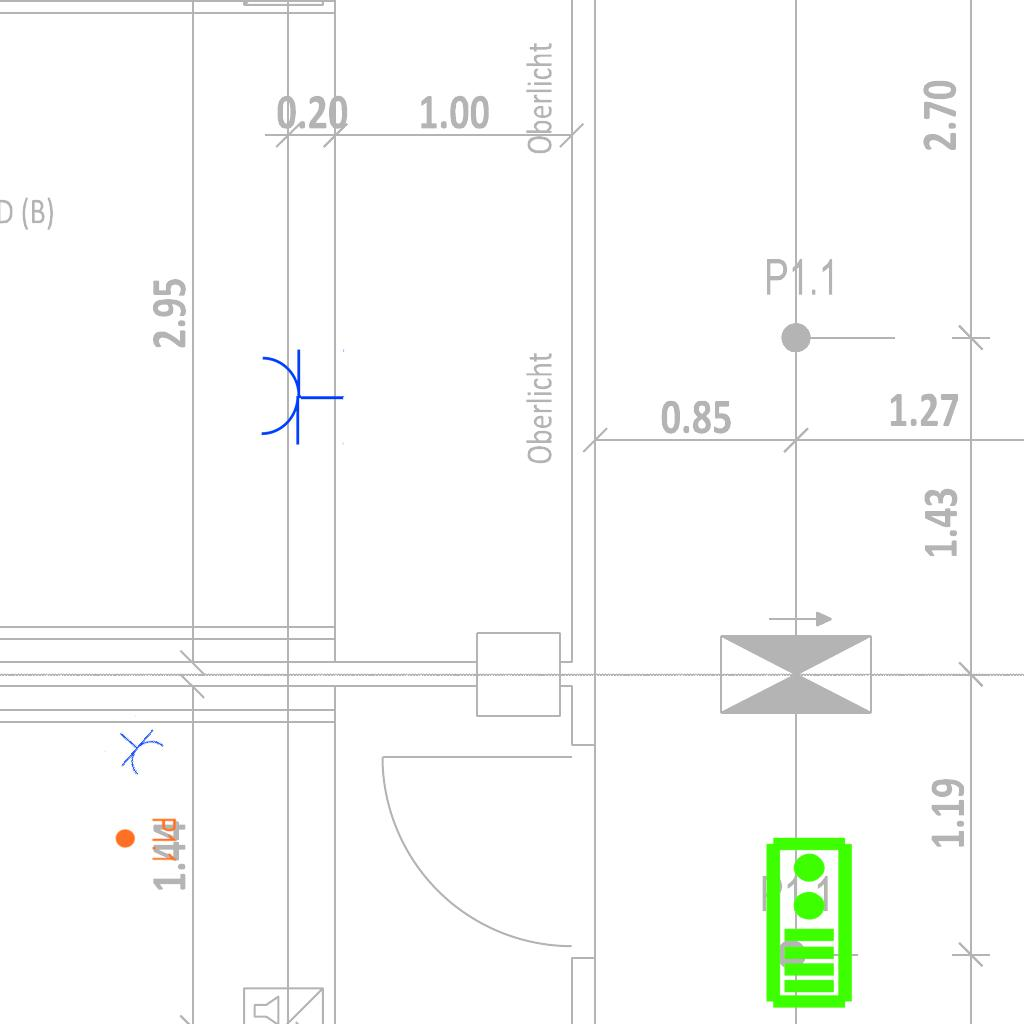Downlight_LED_Einbauleuchten_Flur: (114, 817, 178, 863)
Gegensprechanlage_mit_Video: (760, 834, 855, 1010)
Schukosteckdose_einfach: (256, 345, 346, 448), (103, 714, 169, 781)
